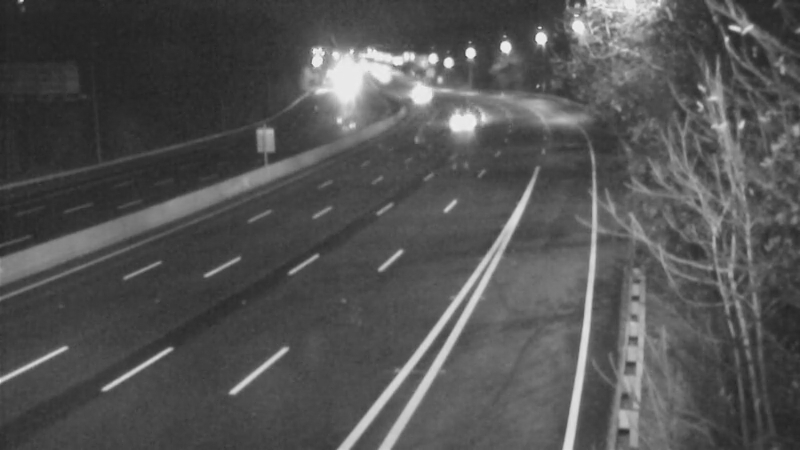vehicle: (396, 72, 446, 122), (442, 98, 492, 148)
